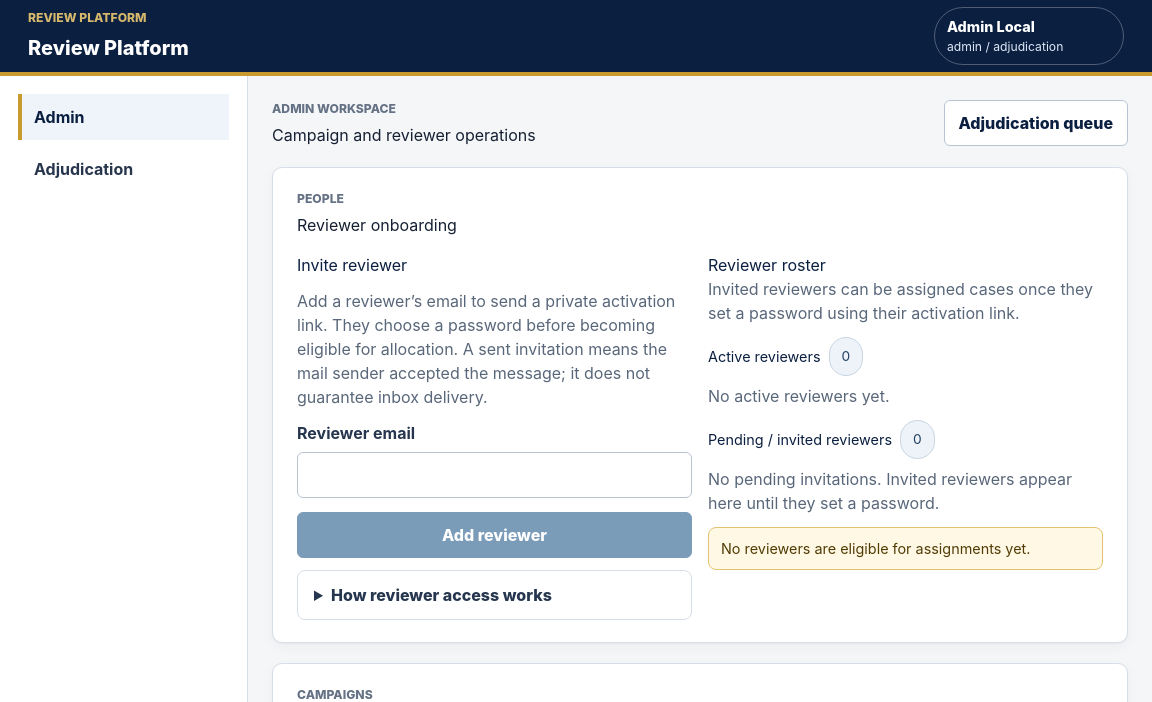
Test: admin dashboard reviewer invitation › shows resent copy when the backend reports a reminder to a still-pending reviewer
Step 1. Type "pending-reviewer@example.test" into the field labelled "Reviewer email" → (494, 476), box [297, 452, 692, 498]
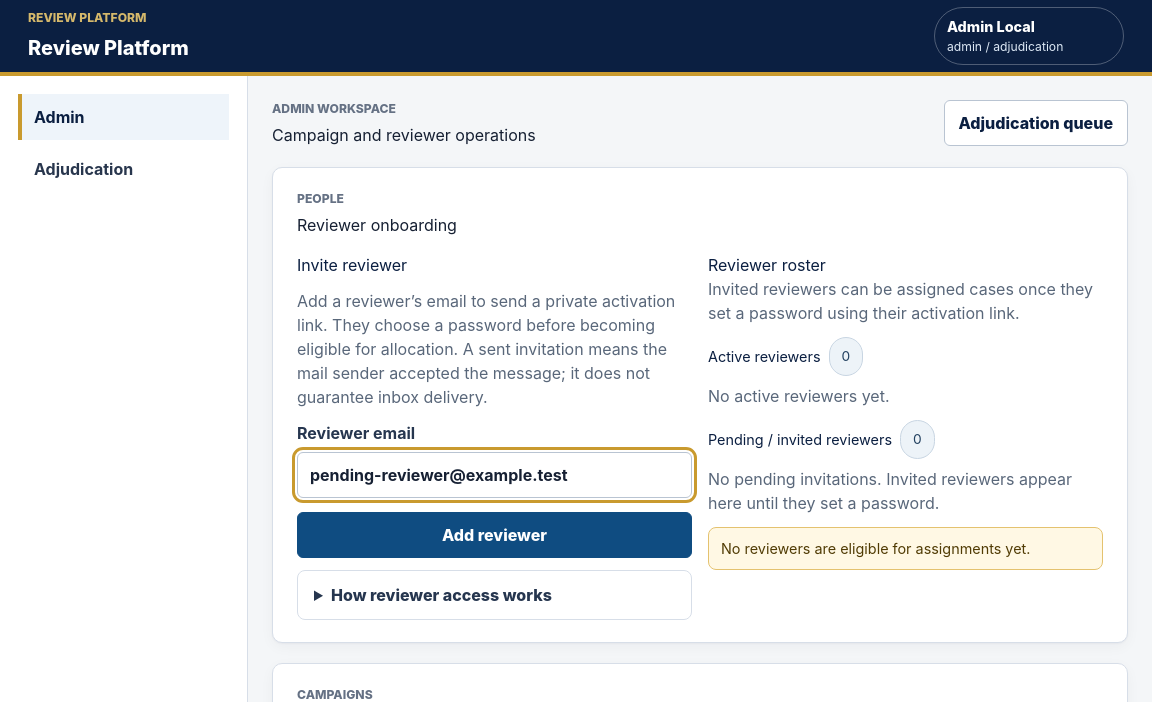
Step 2. Click the button "Add reviewer" → (494, 536), box [297, 512, 692, 558]
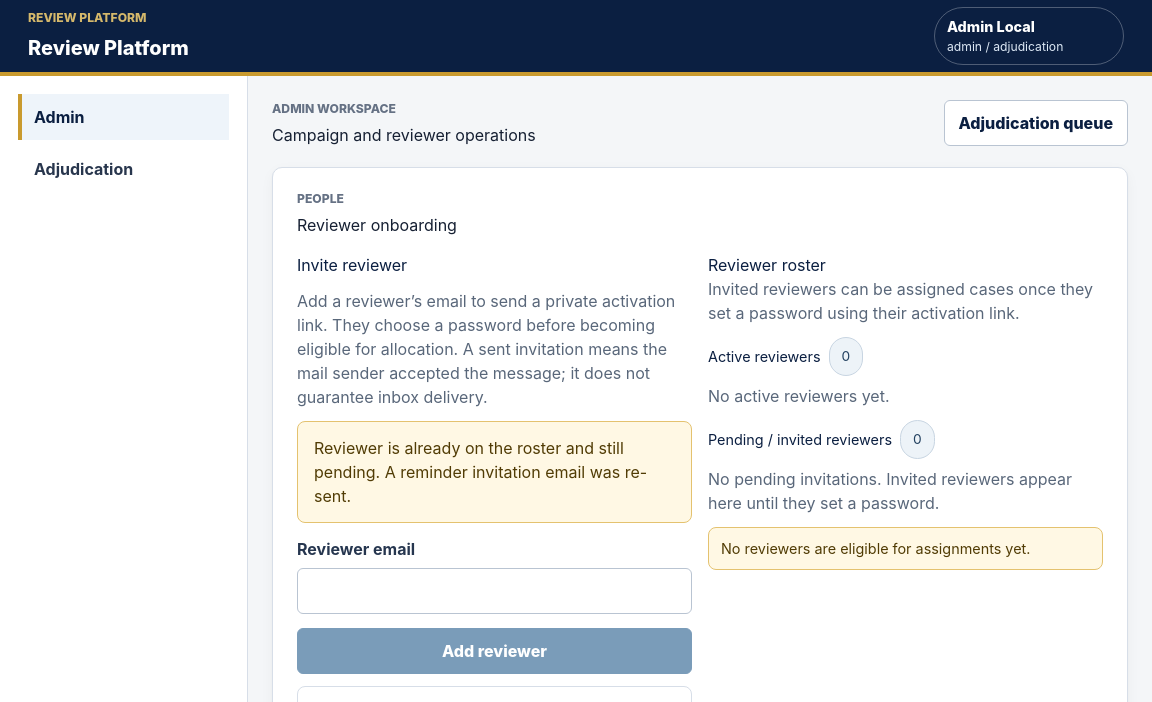
Check: the text "reminder invitation email was re-sent" is shown, box [314, 438, 647, 506]
